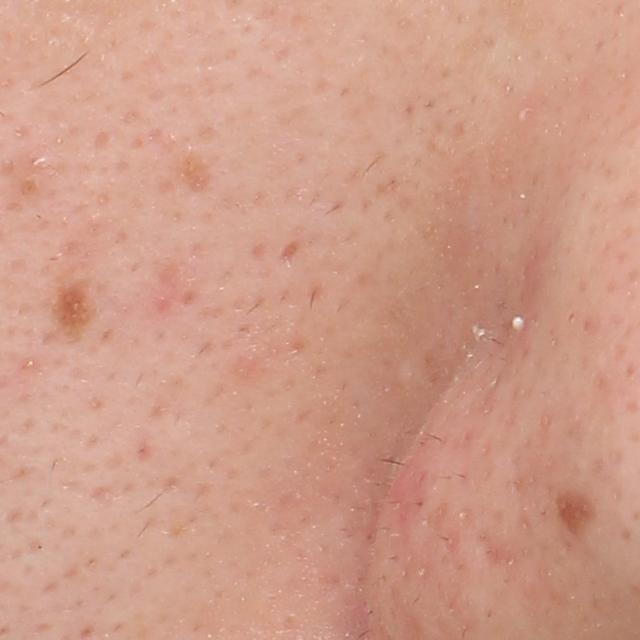atrophic_scar: (275, 235, 300, 262)
nevus: (547, 482, 600, 552), (54, 280, 101, 343)
pustule: (499, 306, 531, 337)
